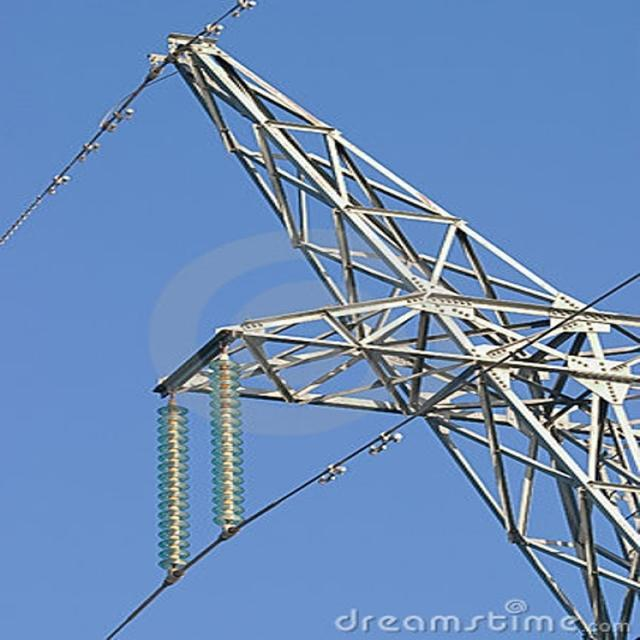non-critical vegetation: (24, 11, 634, 613)
